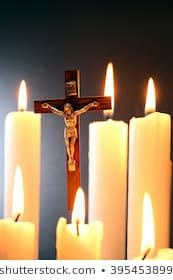fire: (139, 189, 154, 256), (9, 164, 24, 218), (102, 59, 116, 113), (69, 185, 86, 226), (142, 74, 156, 114), (16, 78, 30, 110)
